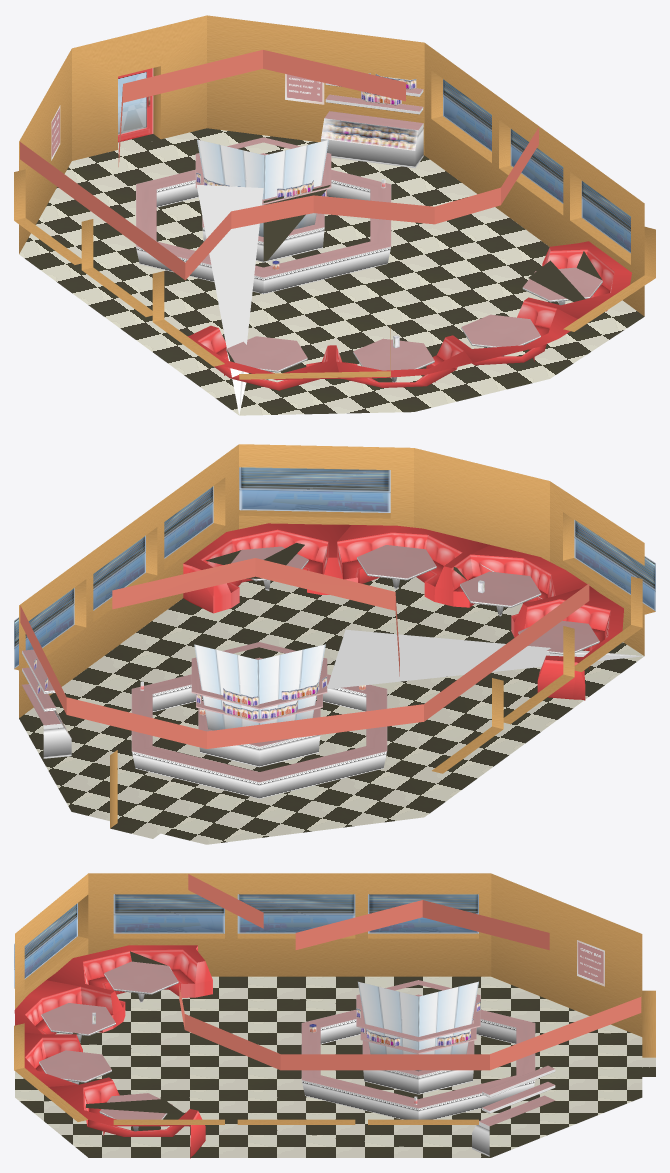
3 renders of one model, top to bottom at view 1: azimuth 30°, elevation 25°; view 2: azimuth 150°, elevation 25°; view 3: azimuth 270°, elevation 25°, orthographic. The views are drawn at different scales.
Visible parts, largest first — view 1: Plane01; view 2: Plane01; view 3: Plane01.
Part boxes in pixels (x1,y1,x2,y2): Plane01: (14,15,655,415); Plane01: (14,444,655,844); Plane01: (14,873,655,1158).
Size of the model in its own units: 2608 by 681 by 3696.
17 materials, 10 textured.
